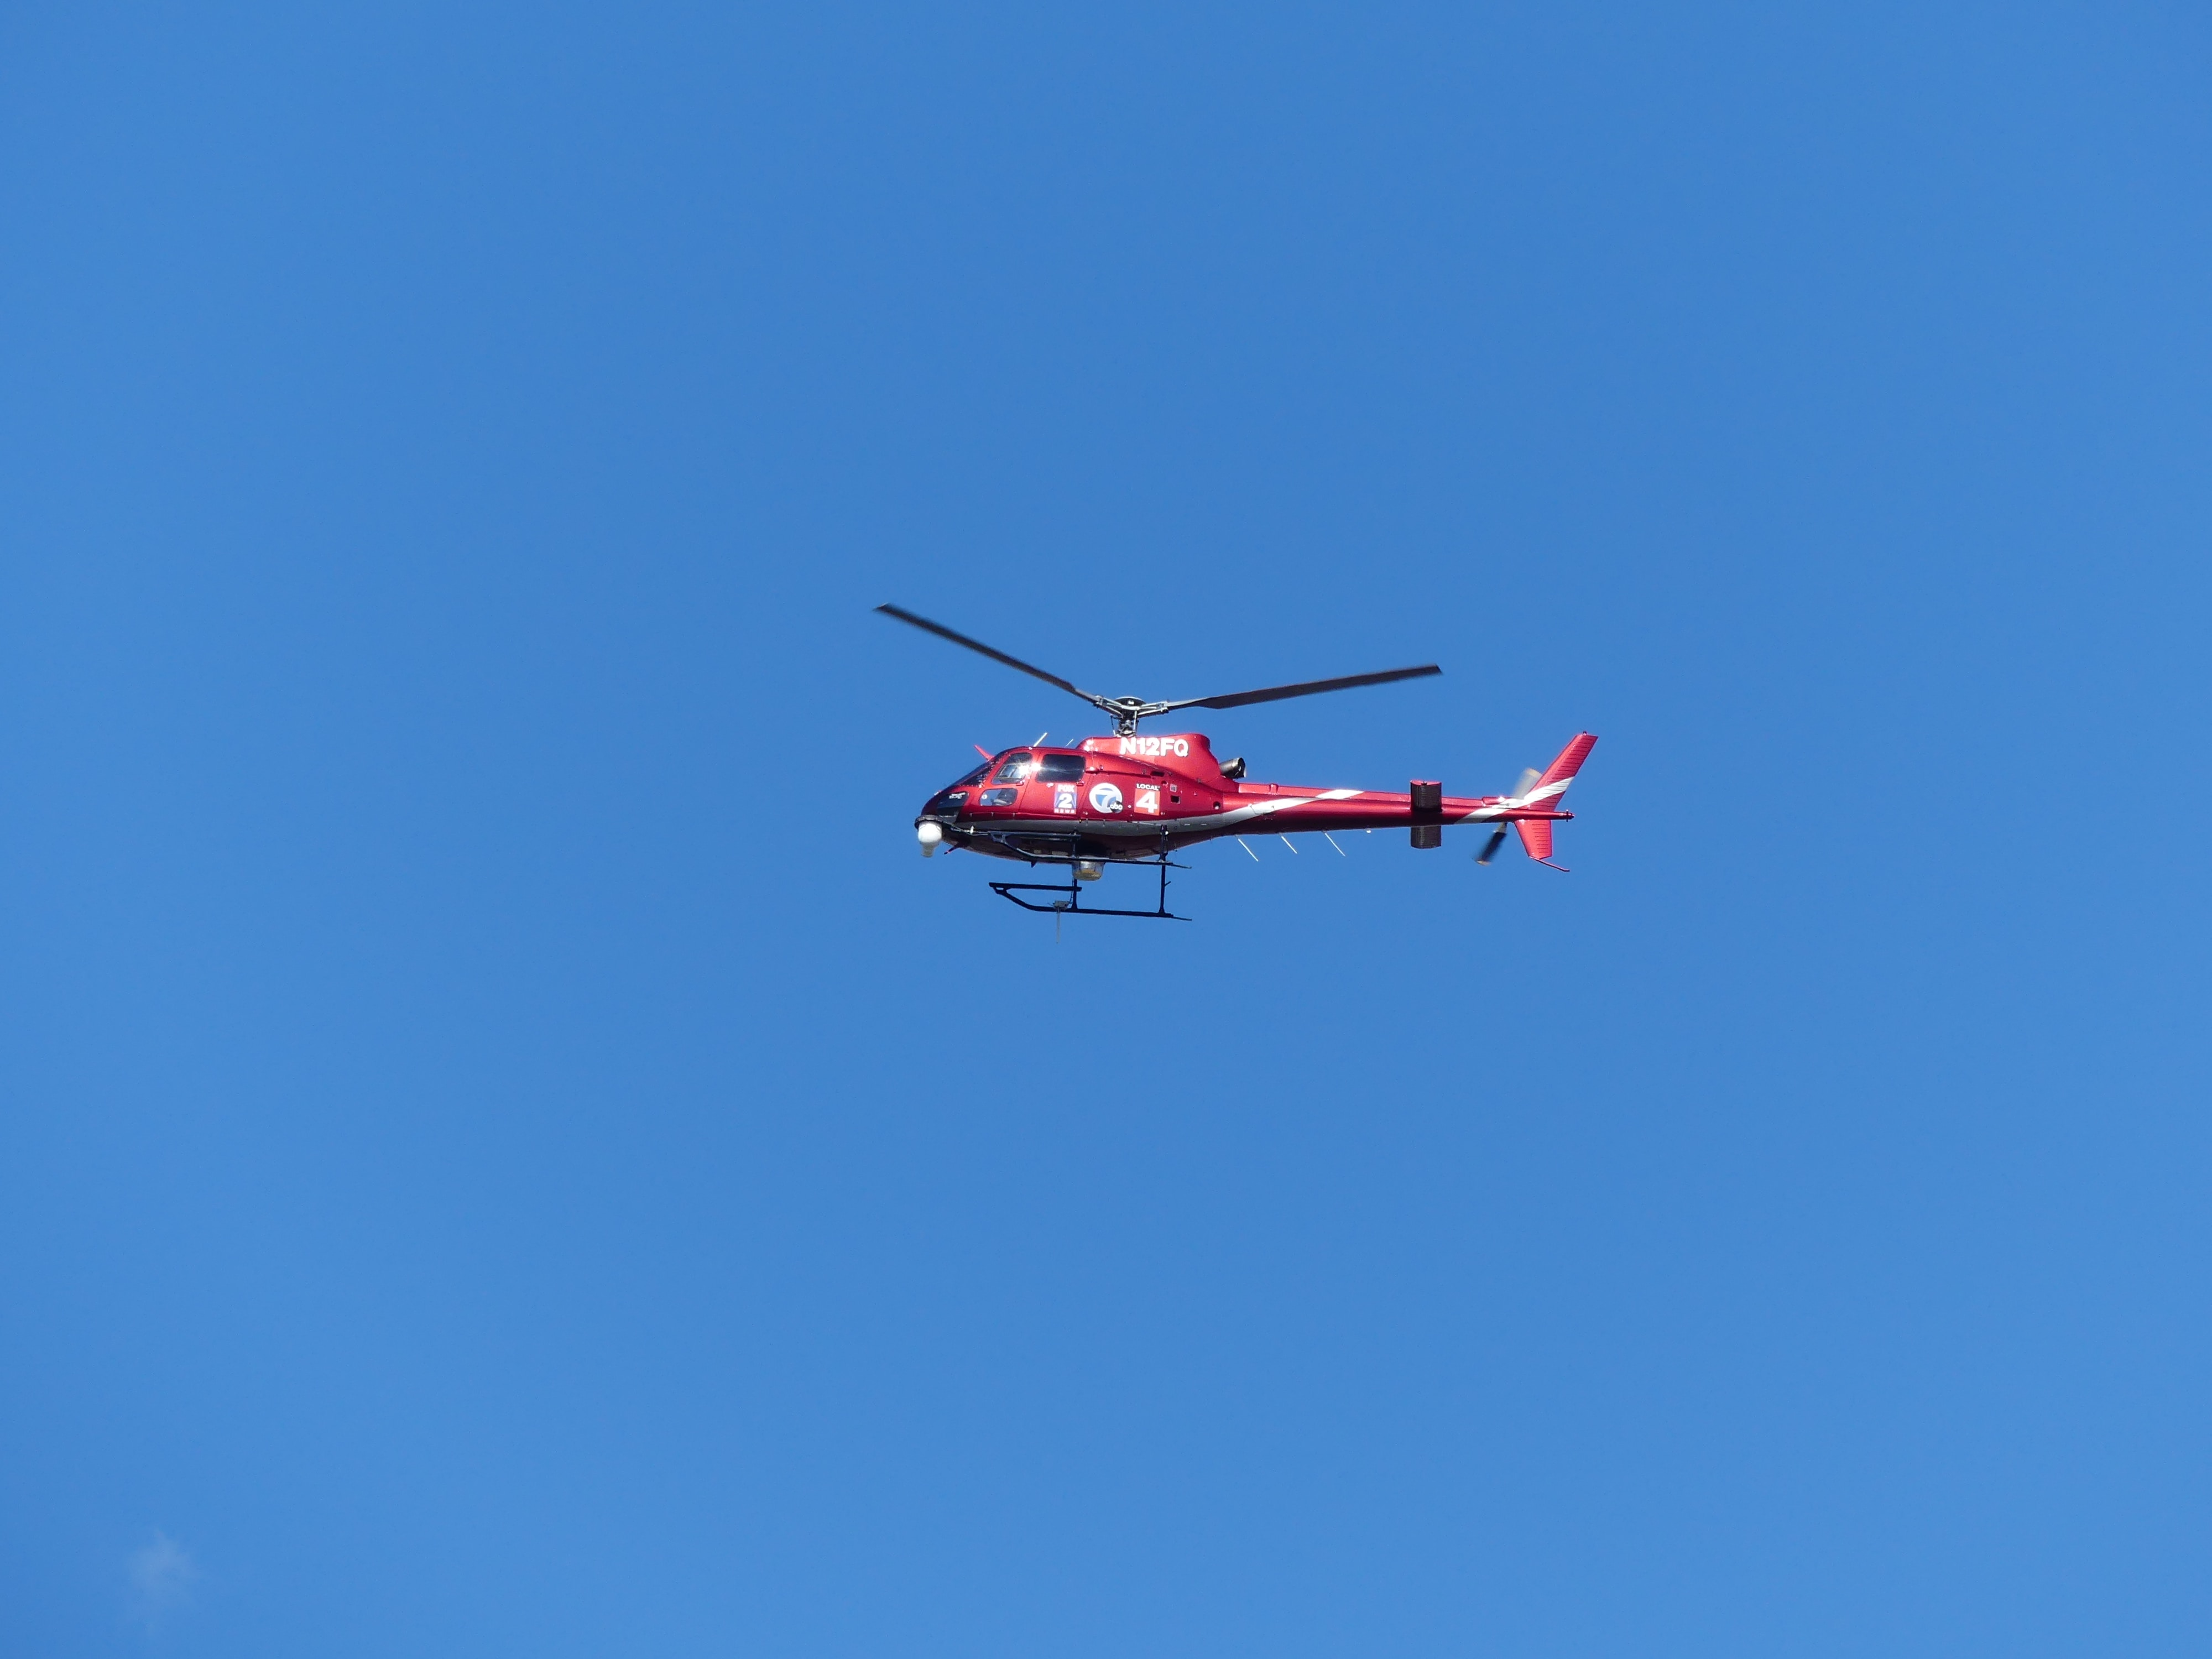helicopter: (820, 507, 1724, 972)
